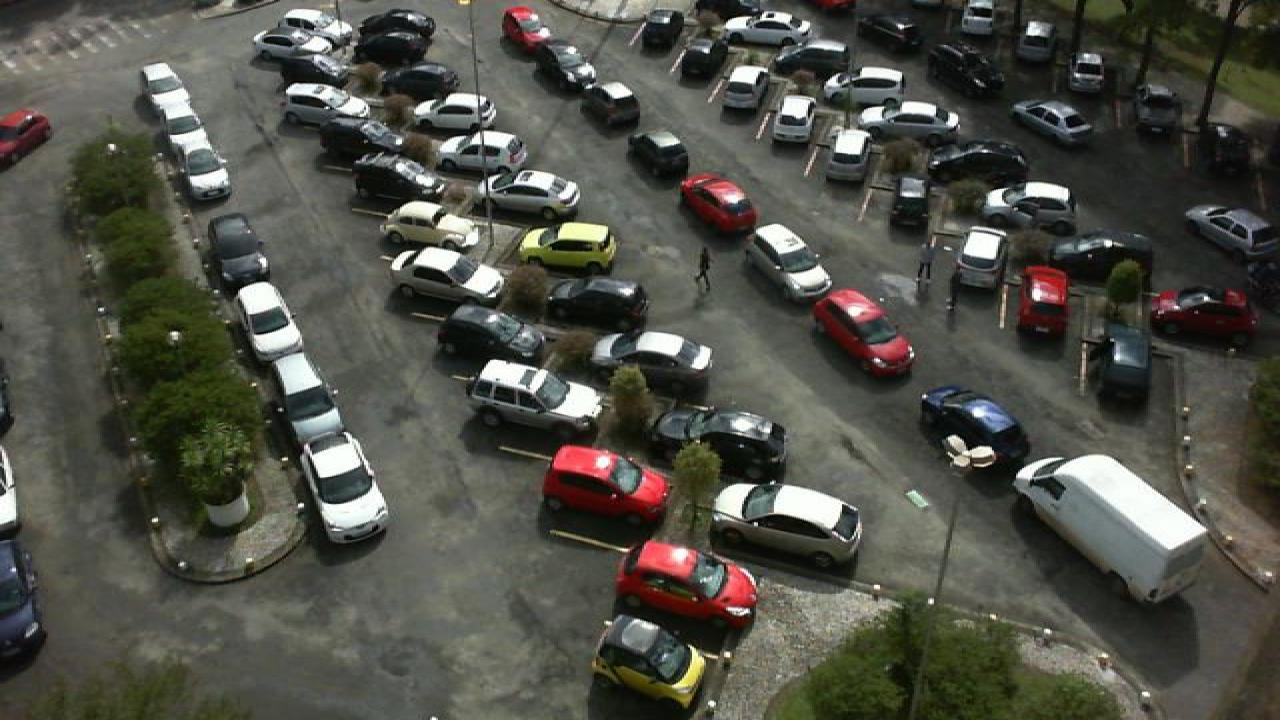Car: (706, 480, 868, 570), (616, 540, 762, 633), (588, 613, 716, 707), (462, 358, 606, 441), (648, 405, 790, 485), (536, 444, 674, 526), (294, 436, 390, 546), (810, 287, 920, 381), (914, 382, 1032, 462), (584, 328, 716, 391), (740, 219, 836, 302), (266, 354, 348, 449), (386, 244, 508, 307), (434, 302, 550, 364), (1044, 226, 1158, 288), (376, 196, 486, 258), (544, 275, 652, 334), (1152, 284, 1260, 343), (482, 166, 588, 224), (512, 219, 622, 274), (1178, 204, 1280, 262), (234, 281, 308, 360), (346, 152, 448, 209), (1094, 321, 1160, 405), (254, 35, 354, 89), (676, 171, 760, 235), (206, 212, 270, 294), (430, 128, 532, 179), (928, 138, 1032, 187), (1014, 264, 1076, 344), (852, 98, 960, 142), (922, 42, 1008, 97), (274, 80, 374, 127), (982, 179, 1080, 225), (1008, 97, 1100, 146), (314, 117, 400, 169), (950, 225, 1014, 294), (822, 63, 914, 111), (404, 90, 498, 135), (622, 127, 692, 179), (350, 27, 434, 70), (374, 62, 460, 103), (768, 37, 854, 78), (718, 9, 812, 45), (278, 7, 352, 52), (576, 79, 642, 129), (536, 44, 602, 93), (818, 128, 874, 184), (180, 144, 232, 204), (850, 11, 920, 55), (136, 61, 190, 117), (160, 103, 212, 161), (766, 92, 818, 148), (888, 173, 936, 233), (500, 4, 556, 54), (360, 8, 438, 39), (718, 63, 764, 115), (634, 8, 686, 53), (674, 42, 728, 82), (1010, 18, 1058, 63), (1066, 50, 1112, 96), (952, 0, 998, 38)
